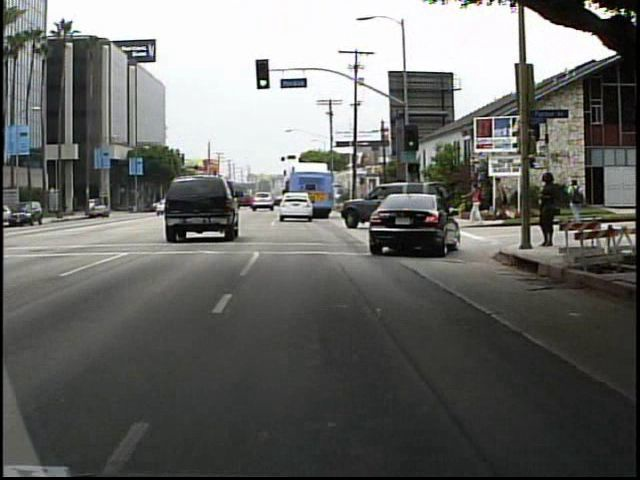person: (534, 169, 559, 254), (465, 179, 490, 228), (564, 177, 587, 223), (490, 177, 509, 223)
